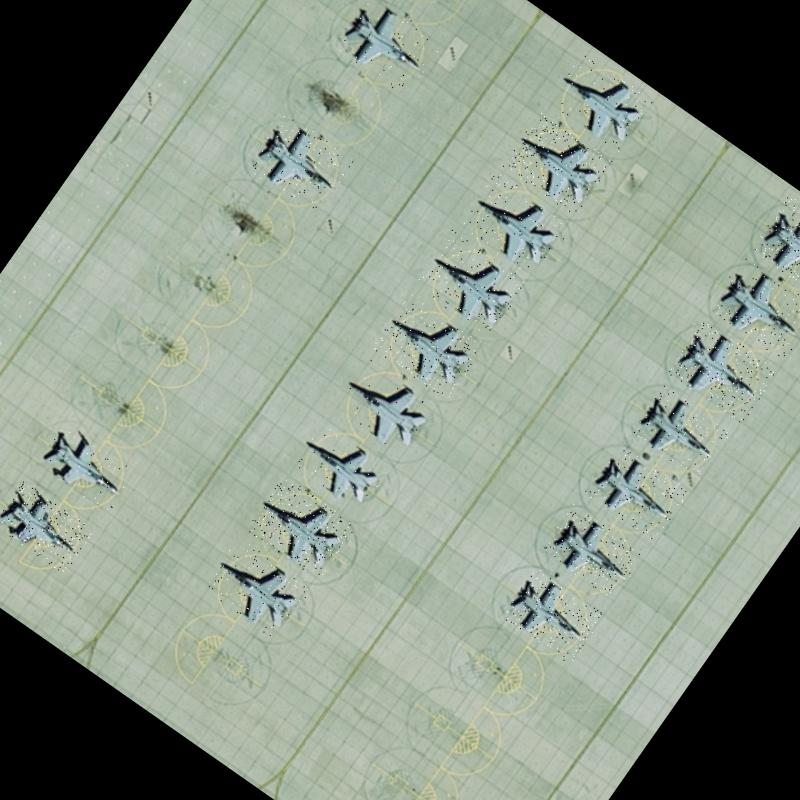A16: (413, 229, 529, 339), (458, 171, 574, 280), (372, 293, 486, 401), (329, 355, 443, 462), (667, 319, 779, 425), (502, 111, 613, 217), (245, 475, 356, 581), (201, 536, 312, 641), (246, 112, 355, 217), (546, 51, 655, 154), (333, 0, 444, 98), (584, 443, 690, 543), (501, 566, 606, 666), (540, 504, 646, 602), (288, 418, 392, 516), (706, 255, 800, 362), (630, 384, 733, 481), (36, 422, 138, 514), (0, 481, 95, 575), (750, 194, 800, 303)
